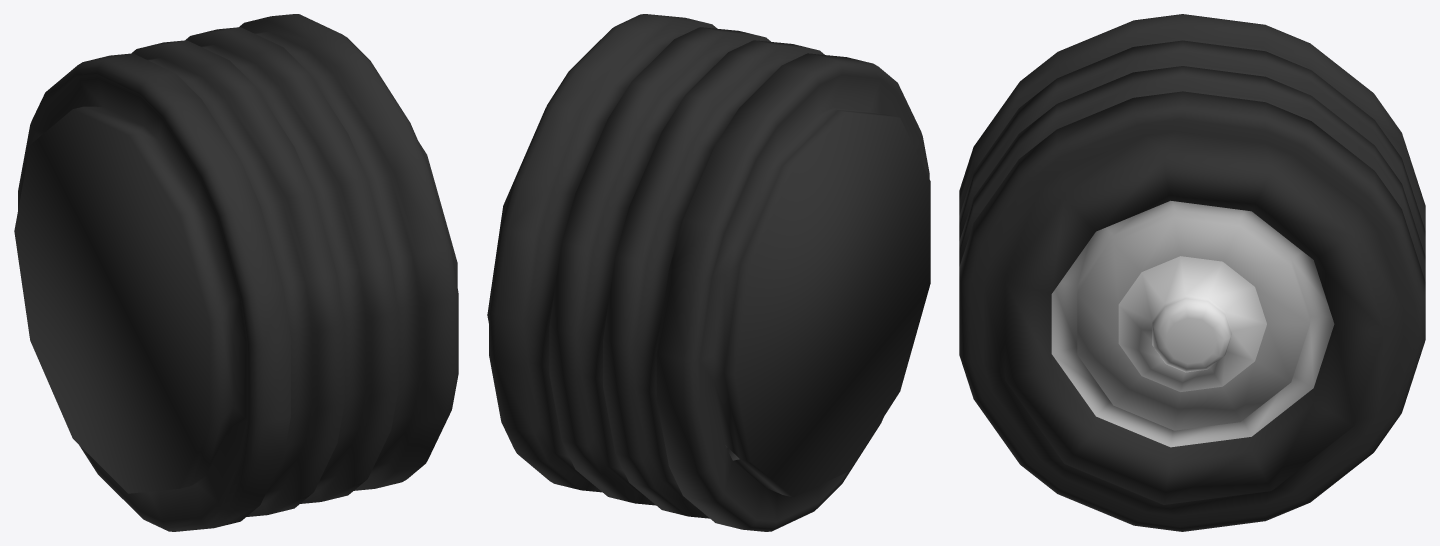
Rendered from Wheel2.fbx.
3 views of the same model, side by side, from view 1: azimuth 30°, elevation 25°; view 2: azimuth 150°, elevation 25°; view 3: azimuth 270°, elevation 25° (orthographic). The views are drawn at different scales.
Visible parts, largest first — view 1: Wheel2; view 2: Wheel2; view 3: Wheel2.
Boxes of the visible parts, x1=… form: Wheel2: x1=14, y1=14, x2=458, y2=531; Wheel2: x1=487, y1=14, x2=930, y2=531; Wheel2: x1=959, y1=14, x2=1425, y2=531.
Bounding box in the file's own units: 1.55 × 2.43 × 2.41.
